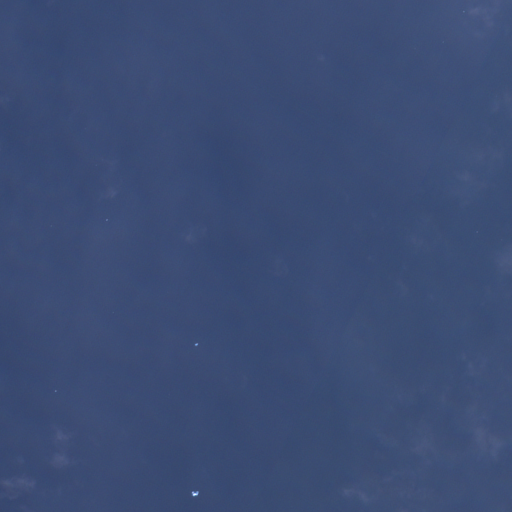Iceberg: (191, 491, 198, 496), (194, 343, 198, 345), (106, 219, 107, 220), (55, 390, 56, 391)
